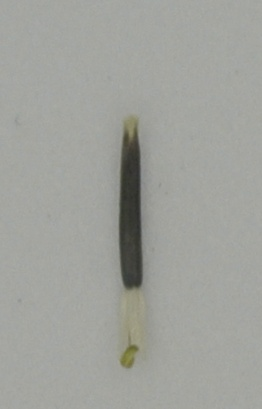เมล็ดดีเรียวยาว: (114, 112, 146, 367)
